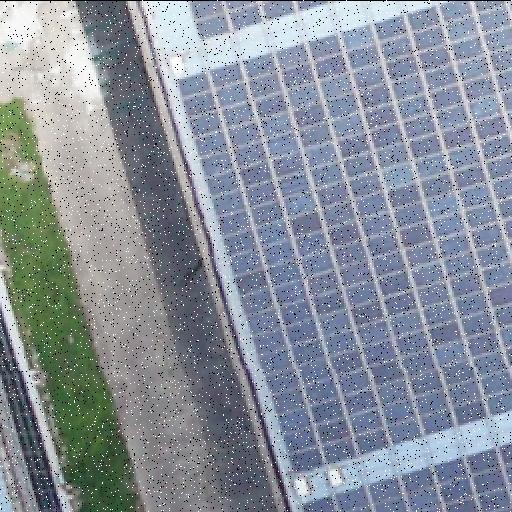solar-panel: (176, 2, 512, 474), (304, 440, 512, 512), (189, 3, 339, 45)
